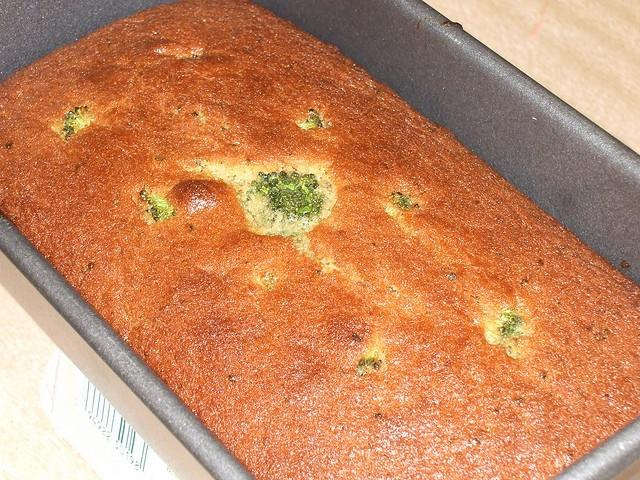broccoli: (247, 170, 326, 222), (140, 185, 177, 221), (495, 308, 524, 347), (62, 106, 94, 141), (354, 351, 380, 376), (298, 108, 323, 129), (390, 192, 410, 210)
